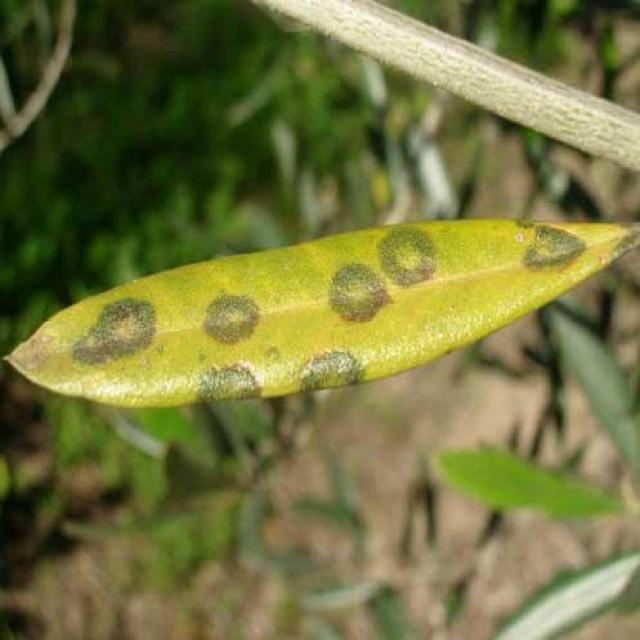OlivePeacockSpot: (5, 220, 639, 406)
